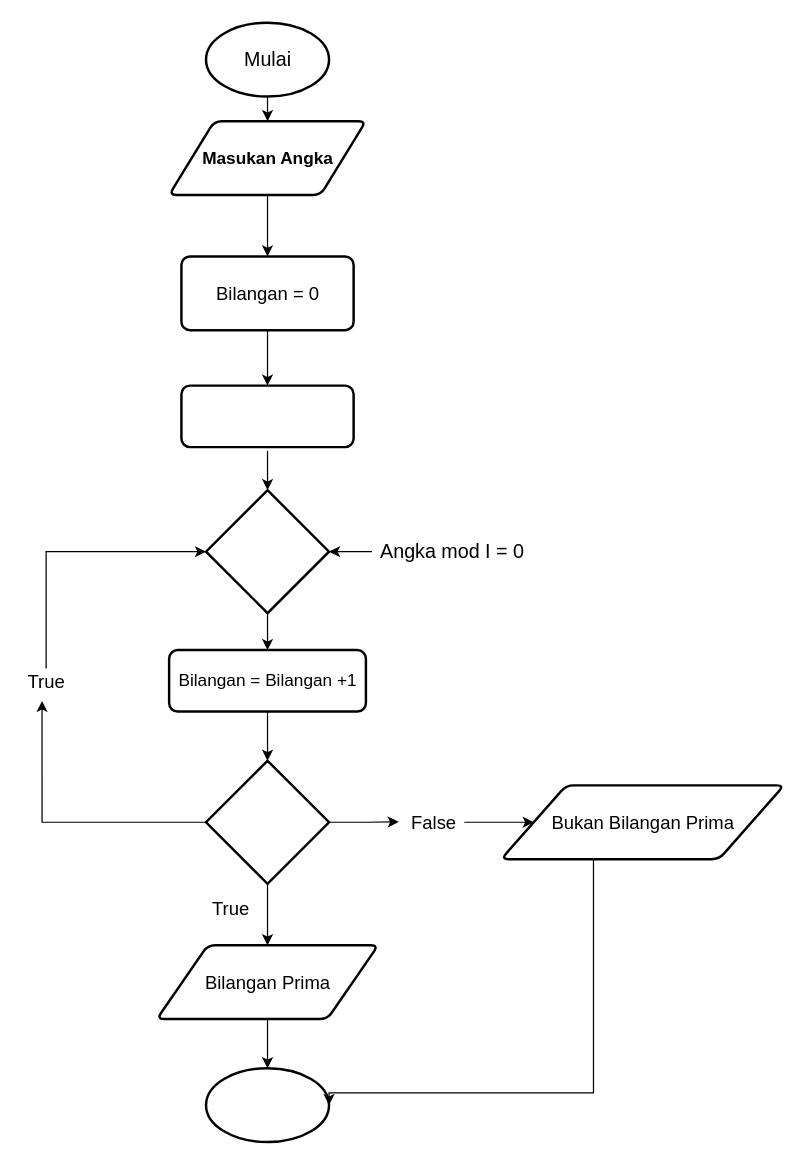
Some shapes in this 806 by 1164 pixel diagram are drawn without their labels. Each missing label, with the box of its shape:
Bilangan = 2: (204, 759, 330, 884)
I = 1: (180, 384, 354, 448)
Selesai: (204, 1066, 330, 1143)
